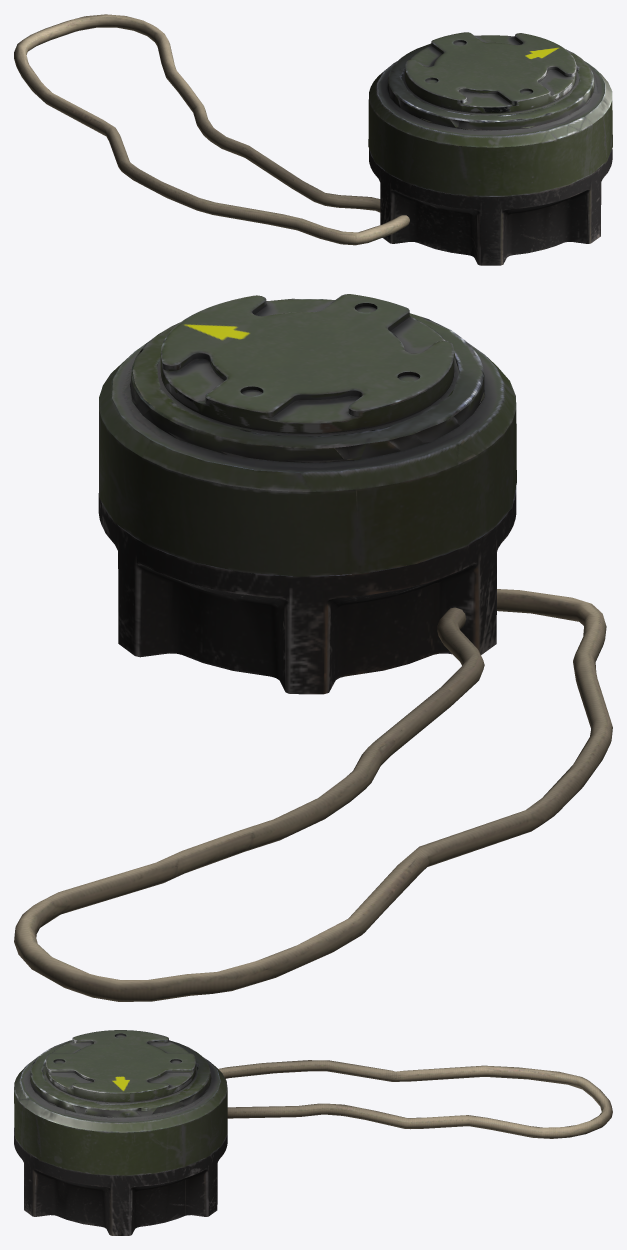
3 views of the same model, one above another, from view 1: azimuth 30°, elevation 25°; view 2: azimuth 150°, elevation 25°; view 3: azimuth 270°, elevation 25° (orthographic). The views are drawn at different scales.
Visible parts, largest first — view 1: M14_AP_mine_TOP, M14_AP_mine_BASE, M14_AP_mine_rope, M14_AP_mine_PRESSURE_PLATE; view 2: M14_AP_mine_TOP, M14_AP_mine_BASE, M14_AP_mine_PRESSURE_PLATE, M14_AP_mine_rope; view 3: M14_AP_mine_TOP, M14_AP_mine_BASE, M14_AP_mine_rope, M14_AP_mine_PRESSURE_PLATE.
Part boxes in pixels (<box>): M14_AP_mine_TOP: <box>368,35,612,196</box>; M14_AP_mine_BASE: <box>369,149,612,265</box>; M14_AP_mine_rope: <box>14,14,409,245</box>; M14_AP_mine_PRESSURE_PLATE: <box>402,32,578,115</box>; M14_AP_mine_TOP: <box>99,298,516,576</box>; M14_AP_mine_BASE: <box>98,487,516,694</box>; M14_AP_mine_PRESSURE_PLATE: <box>157,294,459,436</box>; M14_AP_mine_rope: <box>14,589,612,1001</box>; M14_AP_mine_TOP: <box>14,1040,227,1175</box>; M14_AP_mine_BASE: <box>14,1127,227,1235</box>; M14_AP_mine_rope: <box>218,1060,612,1138</box>; M14_AP_mine_PRESSURE_PLATE: <box>43,1030,197,1104</box>.
Bounding box in the file's own units: 144 × 60.2 × 237.
